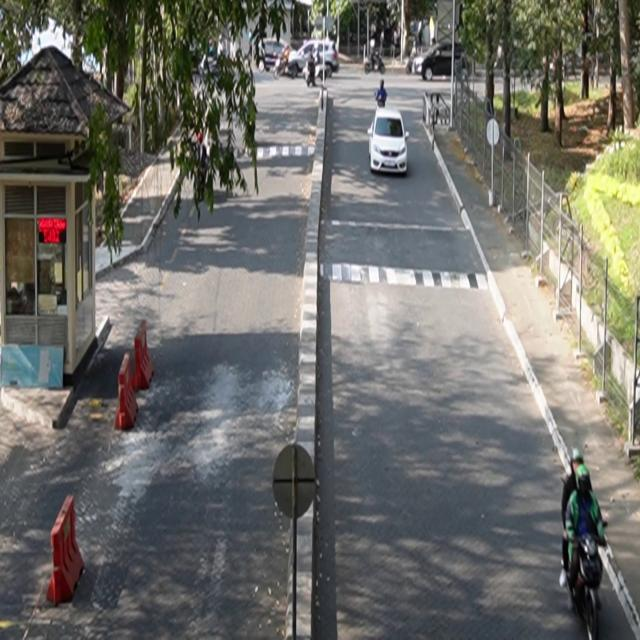car: (368, 108, 410, 176)
